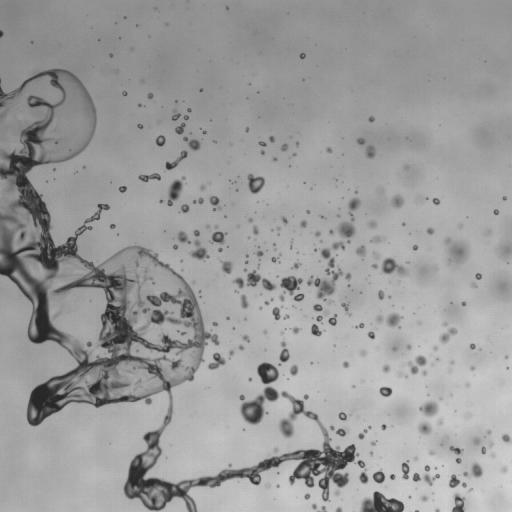droplet: (279, 276, 304, 301), (381, 257, 408, 277), (412, 465, 439, 485), (448, 243, 468, 264), (190, 239, 209, 259), (406, 355, 426, 374), (247, 174, 264, 193), (419, 400, 438, 416), (463, 462, 483, 477), (208, 352, 225, 369), (385, 313, 402, 328), (451, 493, 464, 511), (449, 474, 466, 487), (210, 231, 226, 244), (372, 469, 384, 483), (177, 231, 190, 243), (418, 422, 431, 434), (209, 196, 220, 210), (391, 195, 403, 207), (221, 261, 232, 273), (365, 145, 375, 158), (272, 306, 282, 319), (379, 386, 392, 396), (311, 324, 321, 336), (240, 294, 248, 308), (449, 446, 463, 454), (175, 123, 185, 134), (155, 135, 165, 146), (500, 245, 511, 255), (356, 245, 365, 257), (328, 314, 337, 325), (289, 364, 298, 375), (336, 428, 348, 436), (502, 434, 511, 443), (172, 111, 180, 120), (180, 204, 189, 212), (371, 236, 383, 242), (291, 326, 300, 334), (338, 412, 347, 420), (368, 220, 376, 228), (292, 261, 300, 269), (375, 315, 383, 323), (193, 197, 203, 203), (377, 290, 383, 299), (382, 365, 389, 372), (253, 225, 258, 234), (357, 138, 364, 144), (281, 144, 287, 151), (119, 186, 126, 192), (432, 198, 439, 204), (281, 216, 287, 223), (300, 220, 306, 227), (271, 256, 278, 262), (345, 273, 351, 280), (316, 315, 322, 322), (368, 331, 374, 338), (242, 335, 249, 341), (342, 361, 349, 367), (501, 466, 507, 473), (356, 323, 364, 328), (178, 331, 186, 336), (368, 116, 374, 122), (326, 147, 332, 153), (427, 228, 433, 234), (445, 238, 451, 244), (475, 273, 481, 279), (360, 350, 366, 356), (304, 493, 310, 499), (421, 495, 427, 501), (259, 141, 266, 146), (194, 229, 199, 236), (374, 252, 379, 259), (229, 350, 234, 357), (437, 418, 442, 425), (474, 437, 479, 444), (481, 446, 485, 454), (147, 93, 153, 98), (269, 136, 274, 142), (256, 251, 262, 256), (283, 314, 289, 319), (470, 343, 475, 349), (381, 424, 386, 430), (455, 458, 461, 463), (335, 507, 342, 511), (300, 53, 305, 58), (200, 185, 205, 190), (315, 231, 320, 236), (412, 245, 417, 250), (372, 263, 377, 268), (461, 301, 466, 306), (238, 345, 243, 350), (303, 394, 308, 399), (429, 450, 434, 455), (390, 474, 395, 479), (494, 209, 498, 215), (0, 30, 3, 37), (3, 123, 7, 128), (110, 224, 115, 228), (329, 229, 333, 234), (486, 230, 491, 234), (471, 283, 476, 287), (264, 301, 269, 305), (212, 322, 217, 326), (371, 441, 376, 445), (184, 115, 188, 119), (138, 124, 142, 128), (379, 188, 383, 192), (502, 196, 506, 200), (173, 245, 177, 249), (218, 247, 222, 251), (443, 322, 447, 326), (433, 346, 437, 350), (450, 360, 454, 364), (470, 366, 474, 370), (422, 371, 426, 375), (330, 426, 334, 430), (487, 430, 491, 434), (489, 443, 493, 447), (491, 453, 495, 457), (266, 483, 270, 487), (407, 344, 410, 349), (123, 91, 126, 95), (187, 108, 191, 111), (249, 218, 252, 222), (263, 330, 267, 333), (248, 377, 252, 380), (435, 508, 439, 511), (109, 54, 112, 57), (261, 151, 264, 154), (273, 158, 276, 161), (466, 383, 469, 386), (414, 457, 417, 460), (469, 488, 472, 491), (290, 243, 292, 247), (246, 128, 248, 131), (203, 131, 206, 133), (296, 142, 298, 145), (405, 166, 408, 168), (159, 200, 162, 202), (307, 210, 309, 213), (402, 223, 405, 225), (277, 227, 279, 230), (244, 268, 246, 271), (270, 298, 273, 300), (393, 347, 395, 350), (136, 350, 139, 352), (368, 426, 371, 428), (200, 89, 202, 91), (139, 104, 141, 106), (293, 153, 295, 155), (355, 191, 357, 193), (322, 216, 324, 218), (215, 225, 217, 227), (257, 265, 259, 267), (235, 290, 237, 292), (505, 356, 507, 358), (370, 452, 372, 454)
ligament: (0, 78, 366, 511), (307, 241, 344, 303), (336, 198, 360, 242), (359, 491, 404, 511), (233, 270, 276, 290), (167, 176, 185, 206), (165, 150, 187, 169), (439, 327, 457, 343), (183, 136, 200, 150), (279, 341, 289, 363), (138, 173, 160, 181), (401, 460, 409, 479), (313, 304, 327, 314), (341, 303, 350, 315), (312, 504, 327, 511), (358, 429, 367, 439), (53, 309, 62, 318), (397, 371, 407, 377), (0, 78, 1, 84), (415, 510, 418, 511)
